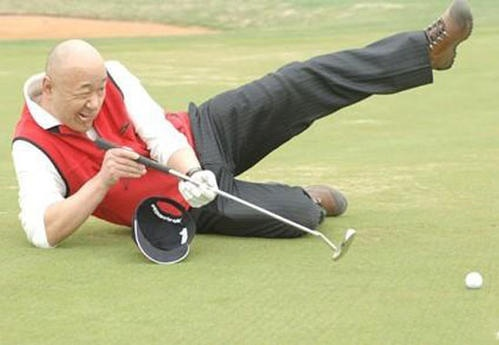falling: (1, 4, 496, 262)
